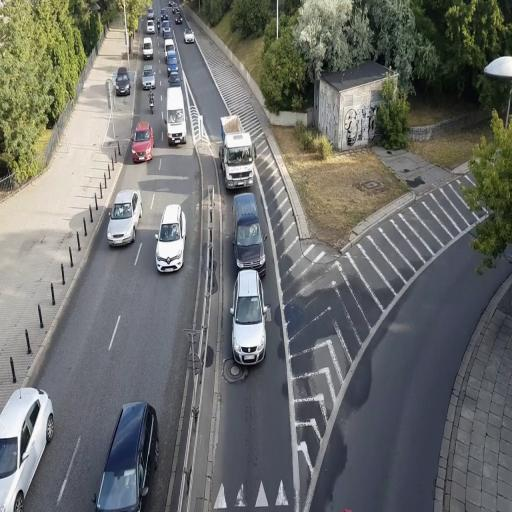vehicle: (95, 400, 159, 511), (0, 384, 55, 508), (230, 270, 268, 366), (219, 112, 255, 193), (234, 191, 266, 275), (234, 192, 266, 274), (155, 202, 186, 274), (106, 190, 140, 246), (165, 86, 186, 148), (131, 120, 154, 164), (114, 67, 130, 95), (142, 68, 156, 90), (184, 30, 194, 44)
